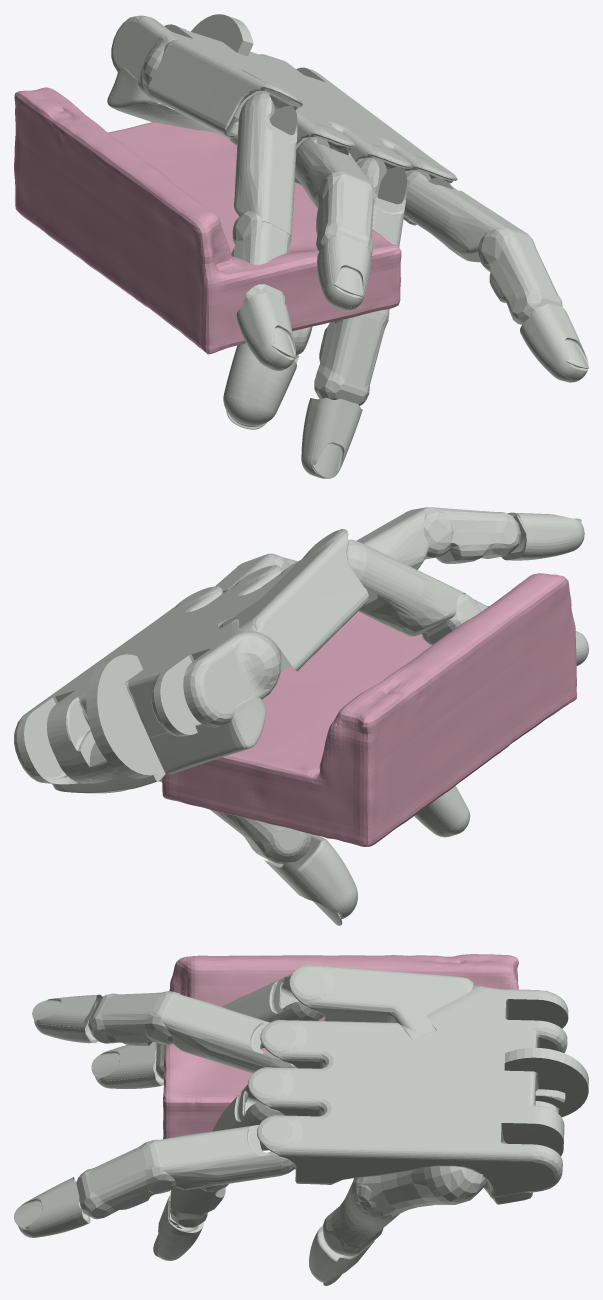
The picture shows the model from 3 angles, top to bottom: view 1: azimuth 30°, elevation 25°; view 2: azimuth 150°, elevation 25°; view 3: azimuth 270°, elevation 25°; orthographic projection. The views are drawn at different scales.
Visible parts, largest first — view 1: hand_isaac_q, world; view 2: hand_isaac_q, world; view 3: hand_isaac_q, world.
Part boxes in pixels (box(x1,y1,x2,y2)): hand_isaac_q: box(107, 14, 588, 478); world: box(14, 87, 401, 354); hand_isaac_q: box(14, 507, 588, 925); world: box(162, 573, 576, 846); hand_isaac_q: box(14, 964, 588, 1285); world: box(163, 954, 518, 1150).
Bounding box in the file's own units: 0.1257 × 0.131 × 0.2127.
